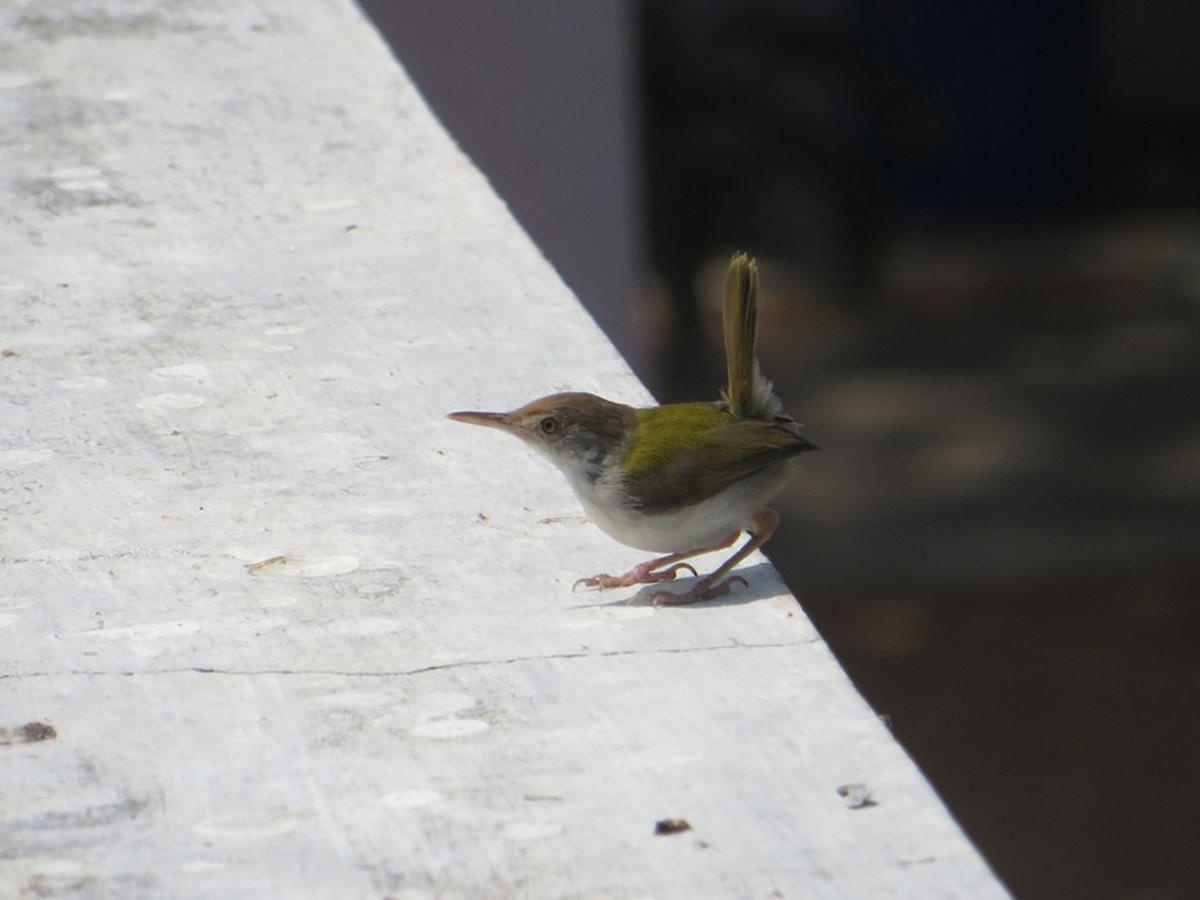tailorbird: (446, 250, 841, 628)
